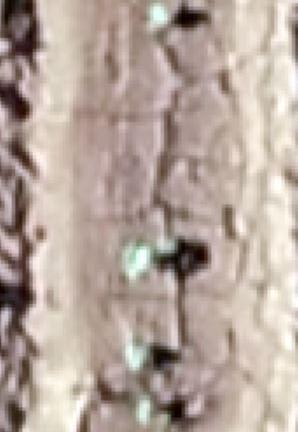cotton: (122, 248, 150, 277), (128, 340, 149, 368), (152, 5, 171, 27)
